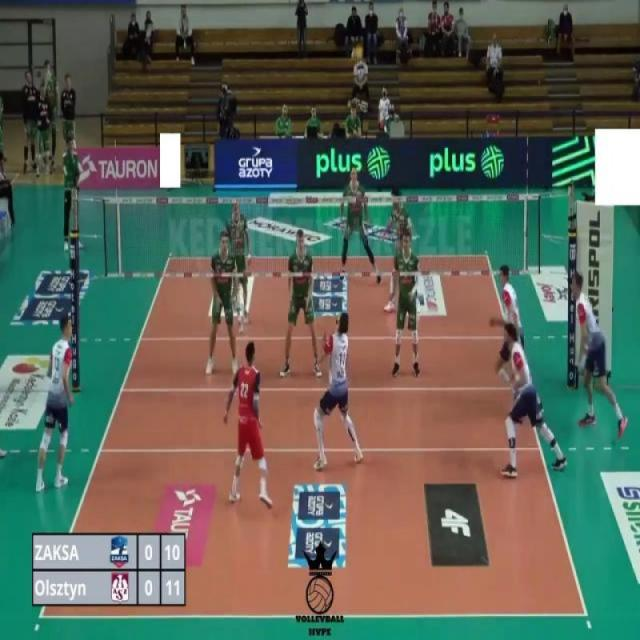volleyball: (350, 43, 363, 64)
